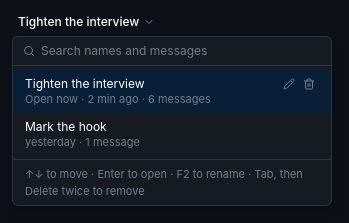
Scenario: ChatHistoryMenu › says why a chat couldn't be opened
Step 1. Click the option "Mark the hook yesterday · 1 message" → (82, 134), box [25,119,140,149]
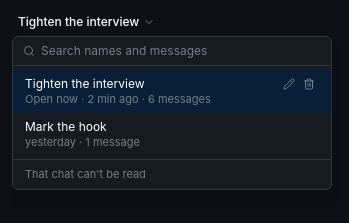
expect the message reads "That chat can't be read": met, box [25,167,146,181]
